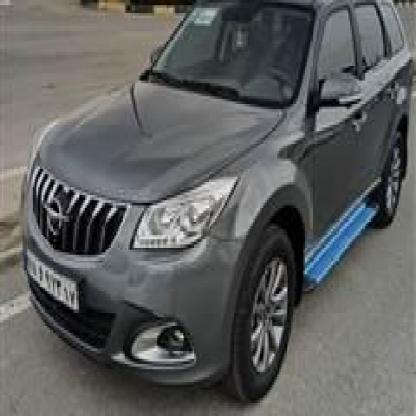Car: (0, 0, 411, 387)
